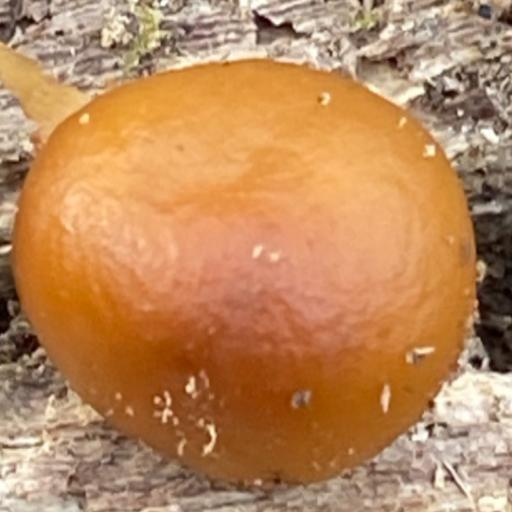mushroom: (13, 54, 482, 486)
